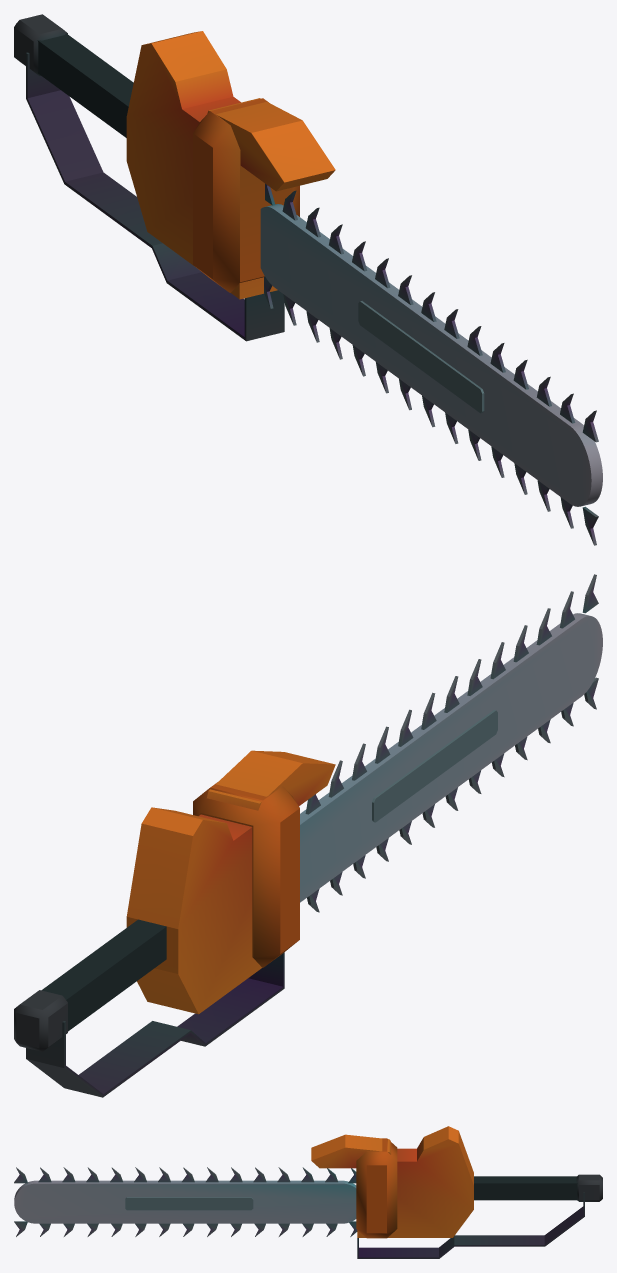
The picture shows the model from 3 angles, top to bottom: view 1: azimuth 30°, elevation 25°; view 2: azimuth 150°, elevation 25°; view 3: azimuth 270°, elevation 25°; orthographic projection. The views are drawn at different scales.
Visible parts, largest first — view 1: bar, casing, guard, drive_cover, grip, reinforcing_strip.001, end_cap; view 2: casing, bar, drive_cover, guard, grip, reinforcing_strip.001, end_cap; view 3: bar, casing, drive_cover, guard, grip, reinforcing_strip, end_cap.
Part boxes in pixels (<box>): bar: <box>260,204,602,506</box>; casing: <box>126,31,335,299</box>; guard: <box>26,52,284,341</box>; drive_cover: <box>193,98,299,292</box>; grip: <box>37,33,133,137</box>; reinforcing_strip.001: <box>358,301,484,413</box>; end_cap: <box>14,14,67,75</box>; casing: <box>126,750,335,1014</box>; bar: <box>300,613,602,902</box>; drive_cover: <box>193,782,299,967</box>; guard: <box>26,952,284,1097</box>; grip: <box>41,919,166,1031</box>; reinforcing_strip.001: <box>372,710,497,822</box>; end_cap: <box>14,990,67,1051</box>; bar: <box>14,1180,356,1223</box>; casing: <box>311,1126,473,1237</box>; drive_cover: <box>356,1138,397,1238</box>; guard: <box>357,1192,584,1258</box>; grip: <box>474,1176,577,1200</box>; reinforcing_strip: <box>125,1197,253,1210</box>; end_cap: <box>576,1174,602,1201</box>.
Size of the model in its own units: 0.061 by 0.157 by 0.6903.
